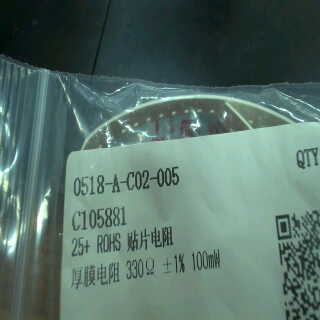330R: (123, 254, 159, 281)
